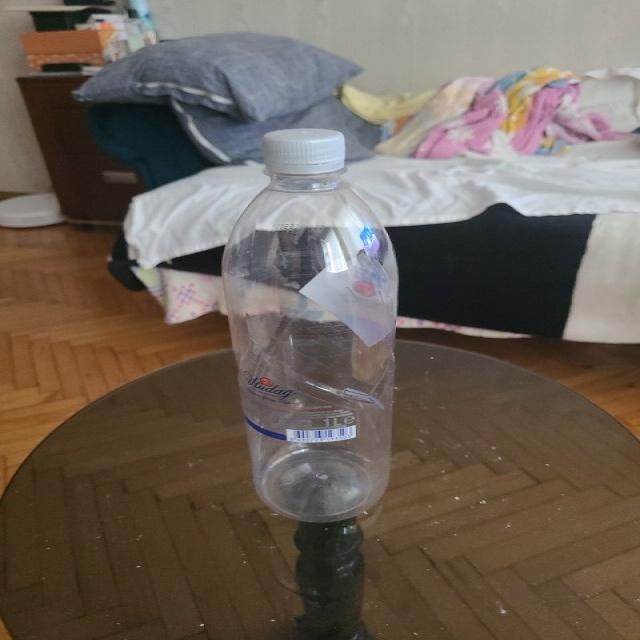plastic_bottle: (223, 128, 400, 522)
